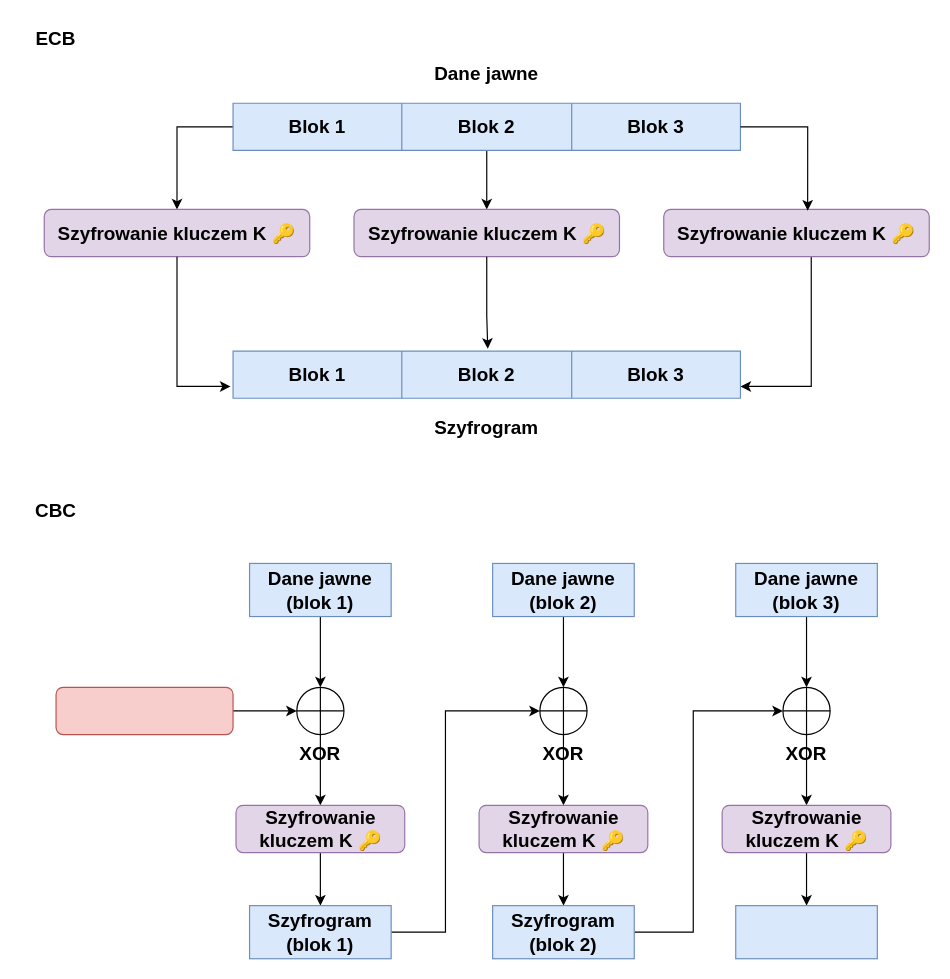
This 950x979 diagram has some shape labels left out. The shapes that lost their labels are listed below. From the top down, each one's centre as x and y in pixels, then its label:
the point at 144,710: Wektor inicjujący (IV) 🎲
the point at 806,931: Szyfrogram (blok 3)
